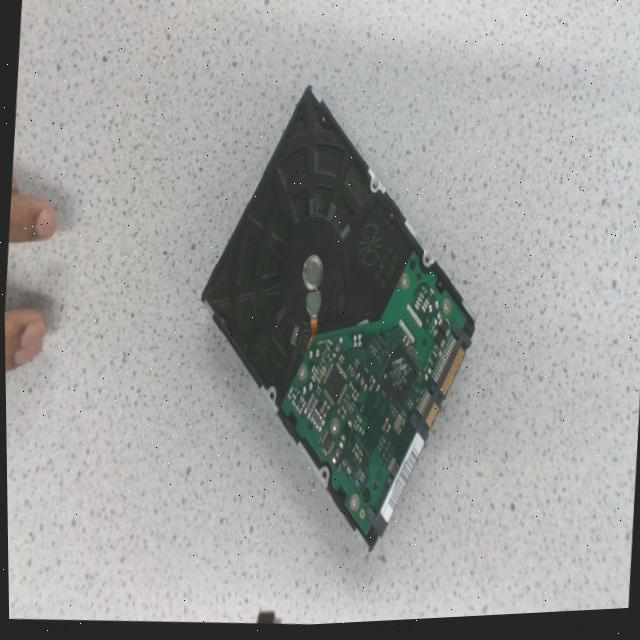case: (200, 91, 473, 551)
pcb: (280, 255, 463, 539)
screw: (346, 497, 357, 515), (296, 366, 306, 384), (328, 421, 338, 439), (398, 277, 408, 294), (440, 302, 449, 320)
